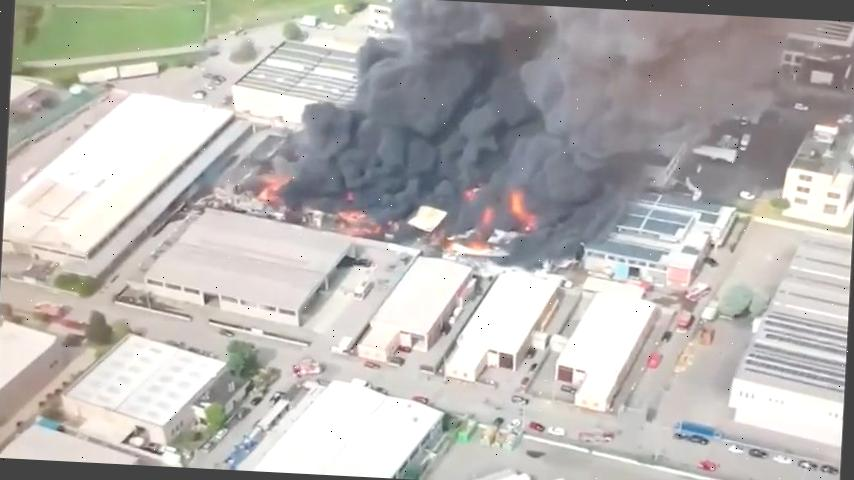fire: (448, 176, 525, 265)
